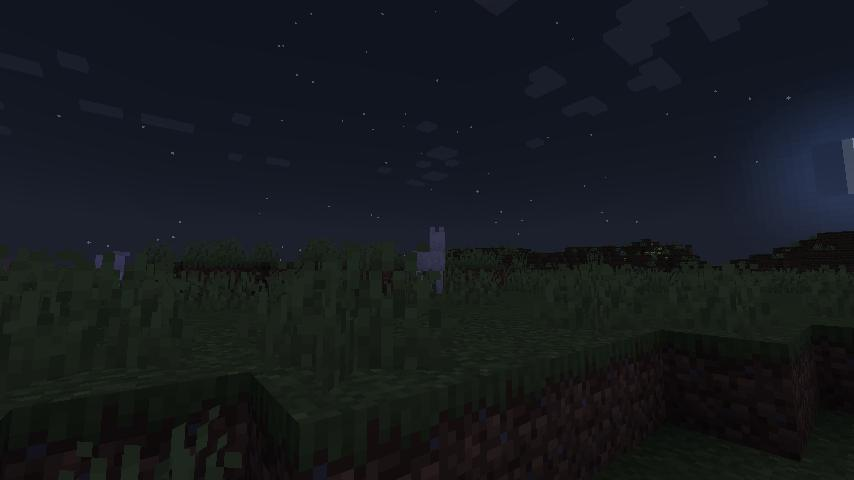llama: (411, 224, 453, 298)
